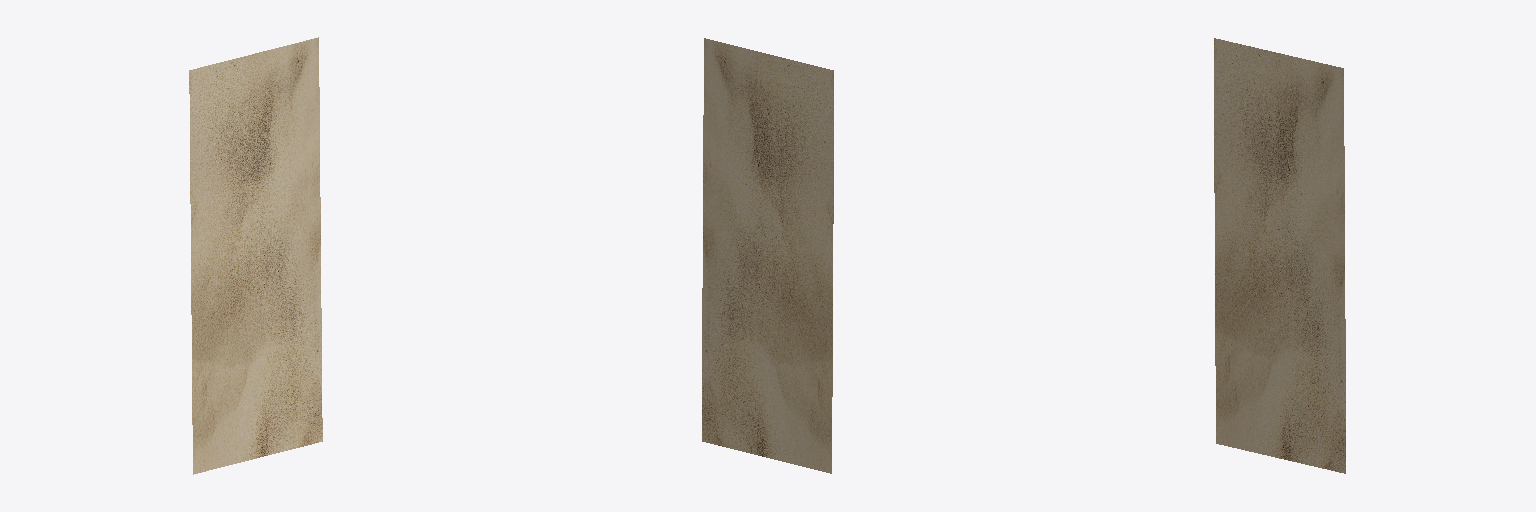
The picture shows the model from 3 angles: view 1: azimuth 30°, elevation 25°; view 2: azimuth 150°, elevation 25°; view 3: azimuth 330°, elevation 25°; orthographic projection.
Visible parts, largest first — view 1: Berma_1; view 2: Berma_1; view 3: Berma_1.
Boxes of the visible parts, <box> form: Berma_1: <box>189,37,322,474</box>; Berma_1: <box>702,38,833,473</box>; Berma_1: <box>1214,38,1345,473</box>.
Size of the model in its own units: 20.66 by 60.15 by 0.2706.
1 materials, 1 textured.